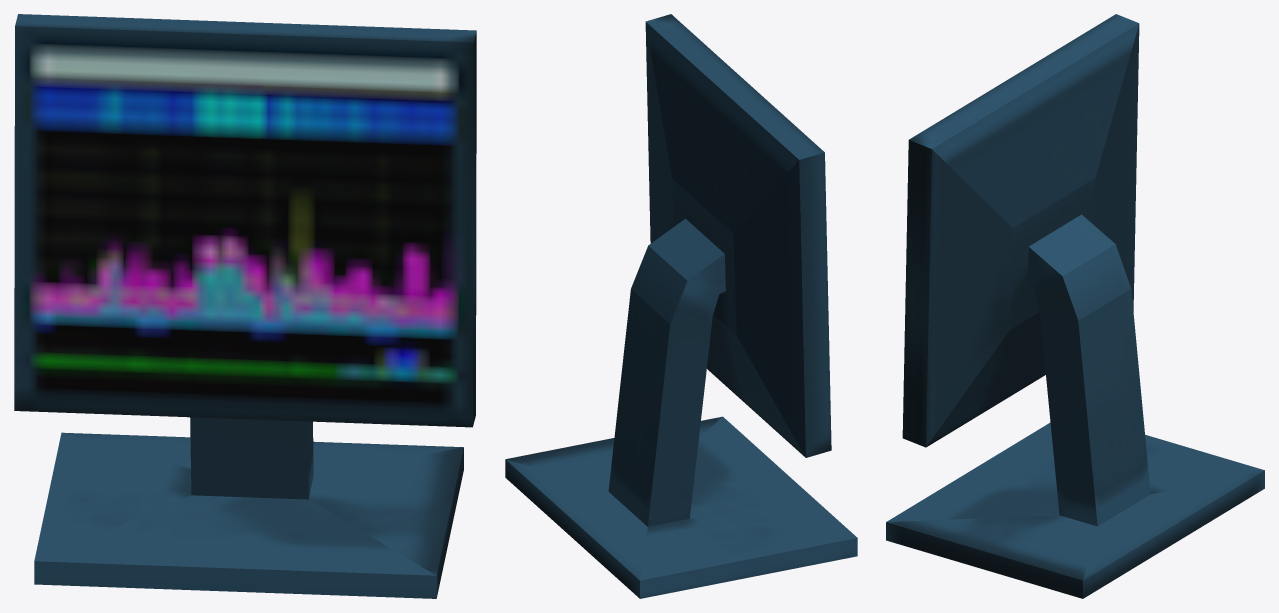
File: Tx_prop_monitor_8.fbx
3 views of the same model, side by side, from view 1: azimuth 30°, elevation 25°; view 2: azimuth 150°, elevation 25°; view 3: azimuth 270°, elevation 25° (orthographic). The views are drawn at different scales.
Visible parts, largest first — view 1: Tx_prop_monitor_9; view 2: Tx_prop_monitor_9; view 3: Tx_prop_monitor_9.
Part boxes in pixels (x1,y1,x2,y2): Tx_prop_monitor_9: (14,14,476,598); Tx_prop_monitor_9: (505,14,857,598); Tx_prop_monitor_9: (886,14,1264,598).
Bounding box in the file's own units: 2.53 × 2.93 × 2.4.
Materials: 1 (1 with a texture image).
